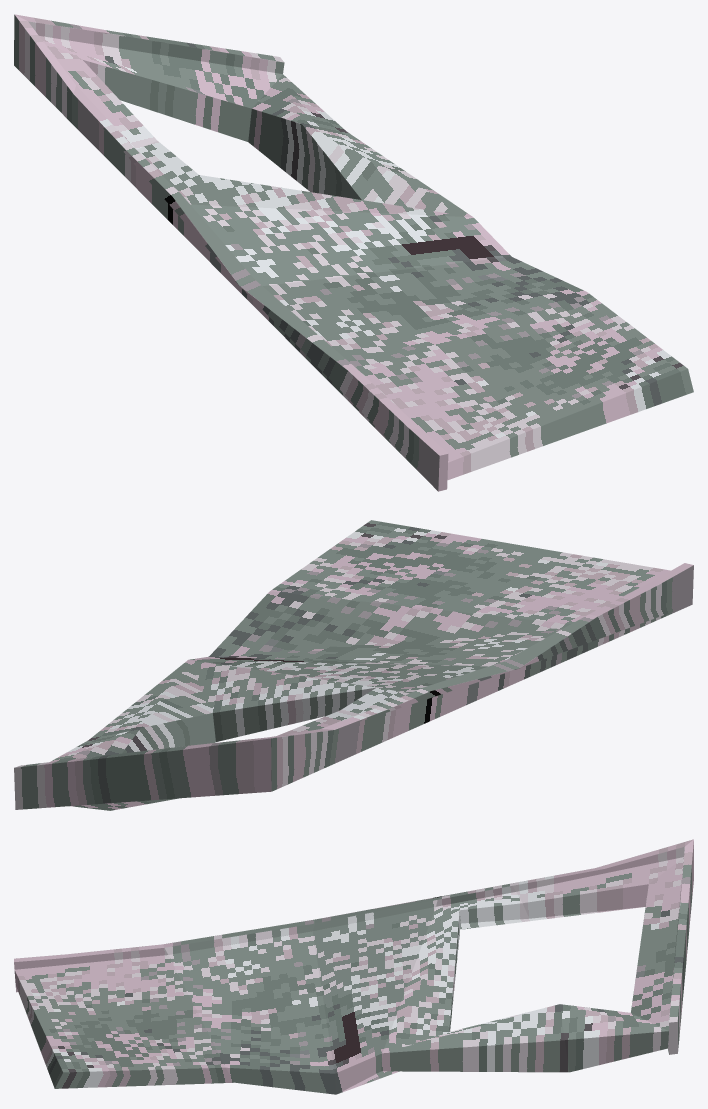
The model's file is CafeteriaBrokenDoor1.fbx.
3 renders of one model, top to bottom at view 1: azimuth 30°, elevation 25°; view 2: azimuth 150°, elevation 25°; view 3: azimuth 270°, elevation 25°, orthographic. The views are drawn at different scales.
Visible parts, largest first — view 1: Plane.026; view 2: Plane.026; view 3: Plane.026.
Boxes of the visible parts, x1,y1,x2,y2 form: Plane.026: [14, 14, 693, 491]; Plane.026: [14, 520, 693, 810]; Plane.026: [14, 839, 693, 1094].
Size of the model in its own units: 210 by 120 by 509.
1 material, 1 textured.
